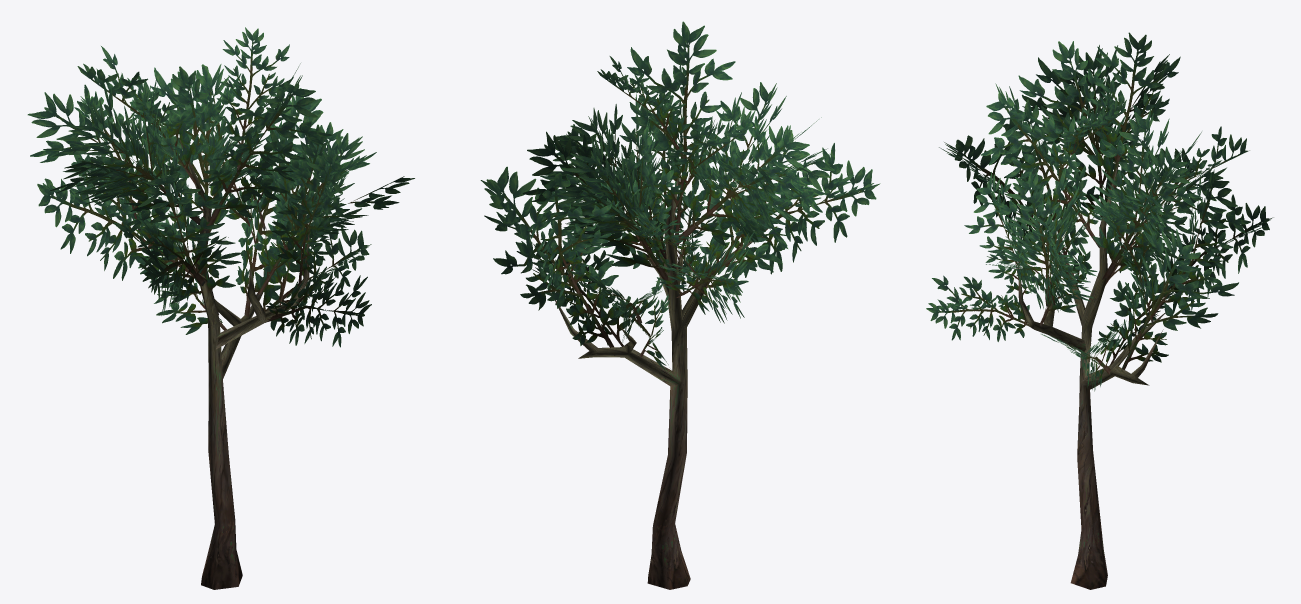
File: 6sm_treesapling_b01.obj
3 renders of one model, left to right at view 1: azimuth 30°, elevation 25°; view 2: azimuth 150°, elevation 25°; view 3: azimuth 270°, elevation 25°, orthographic. The views are drawn at different scales.
Visible parts, largest first — view 1: 6SM_TREESAPLING_B010; view 2: 6SM_TREESAPLING_B010; view 3: 6SM_TREESAPLING_B010.
Part boxes in pixels (x1,y1,x2,y2): 6SM_TREESAPLING_B010: [27, 27, 414, 589]; 6SM_TREESAPLING_B010: [480, 21, 880, 589]; 6SM_TREESAPLING_B010: [926, 32, 1273, 589].
Size of the model in its own units: 5.2 by 7.49 by 4.89.
1 material, 1 textured.
